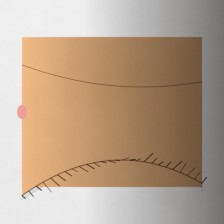hemorrhage_spot: (72, 72, 141, 127)
